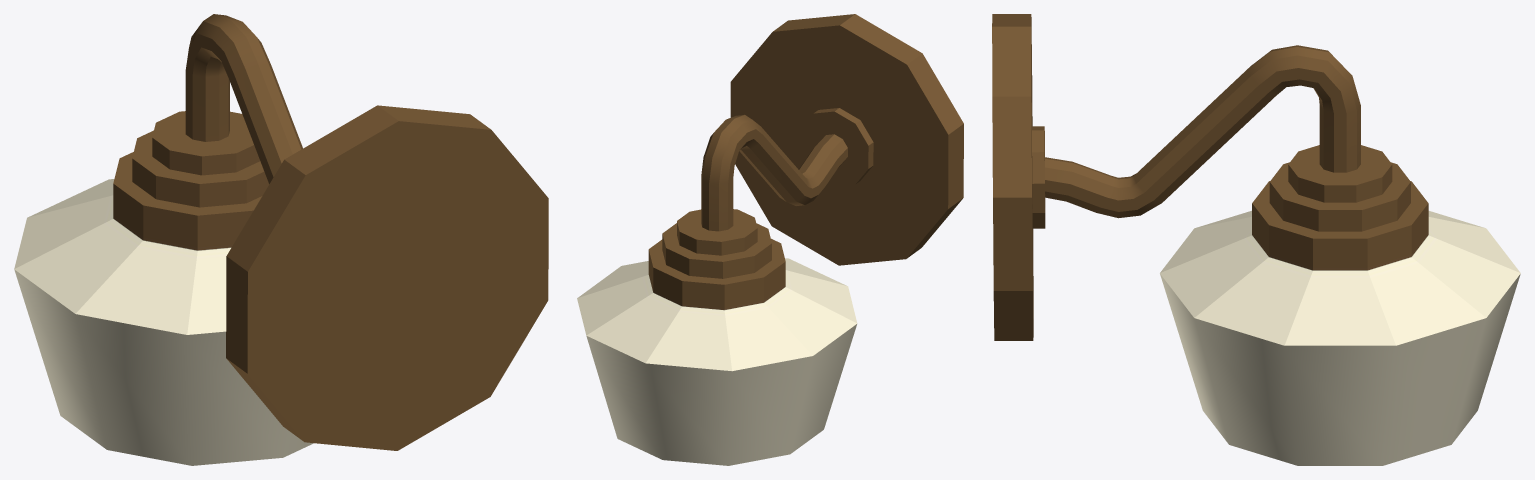
Rendered from lamp.fbx.
3 renders of one model, left to right at view 1: azimuth 30°, elevation 25°; view 2: azimuth 150°, elevation 25°; view 3: azimuth 270°, elevation 25°, orthographic. The views are drawn at different scales.
Visible parts, largest first — view 1: pCylinder1; view 2: pCylinder1; view 3: pCylinder1.
Boxes of the visible parts, x1,y1,x2,y2 form: pCylinder1: (14,14,548,465); pCylinder1: (577,14,963,465); pCylinder1: (992,14,1520,465).
Bounding box in the file's own units: 0.2716 × 0.3703 × 0.4181.
